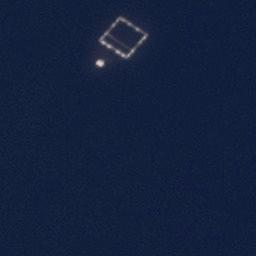square_solid: (97, 14, 150, 62)
